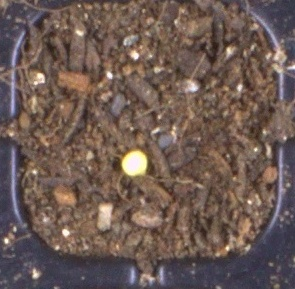chilli seed: (120, 149, 148, 176)
